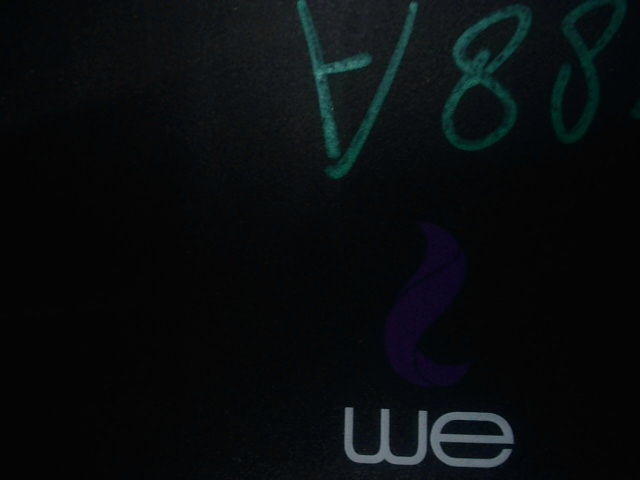AT_We: (292, 219, 534, 471)
